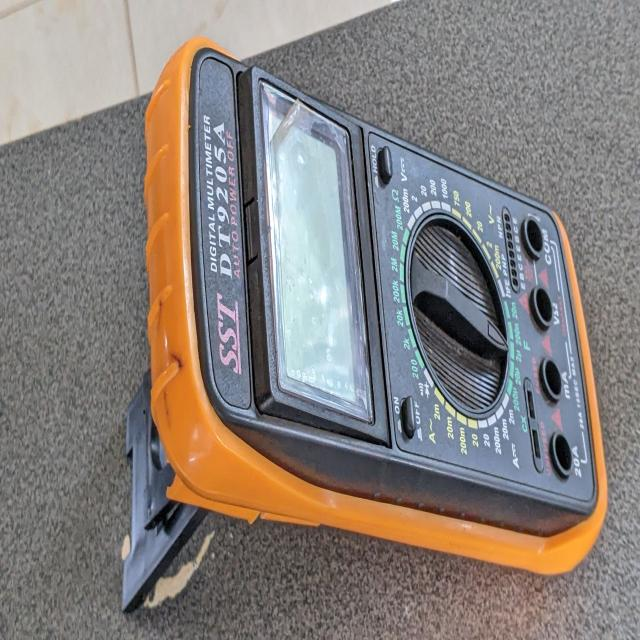Digital Multimeter: (117, 40, 608, 588)
